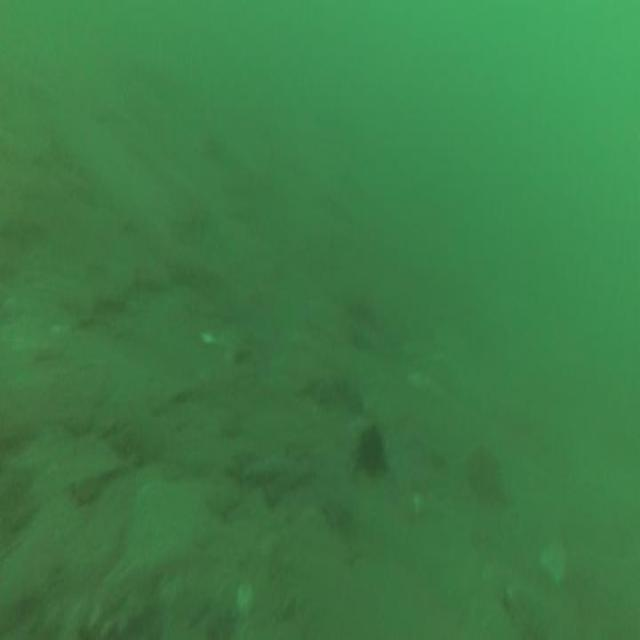echinus: (356, 425, 384, 477)
starfish: (466, 441, 502, 501)
